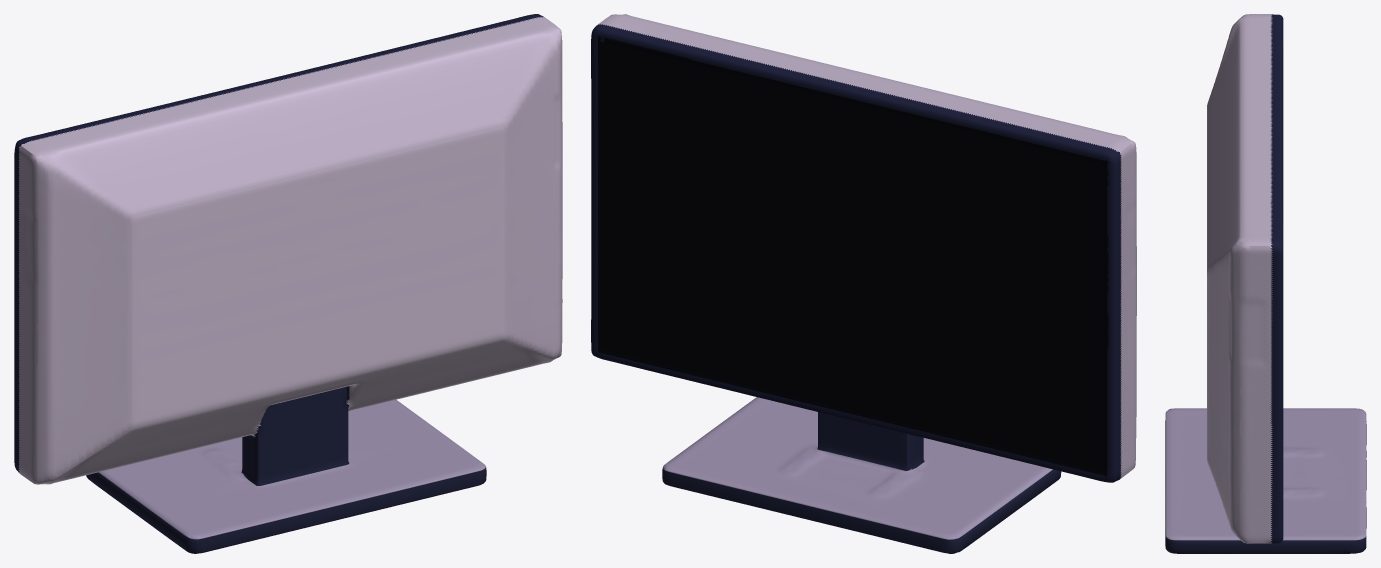
The model's file is white_mesh.glb.
3 renders of one model, left to right at view 1: azimuth 30°, elevation 25°; view 2: azimuth 150°, elevation 25°; view 3: azimuth 270°, elevation 25°, orthographic. The views are drawn at different scales.
Visible parts, largest first — view 1: tmp6k7qvauq.ply; view 2: tmp6k7qvauq.ply; view 3: tmp6k7qvauq.ply.
Part boxes in pixels (box(x1,y1,x2,y2)): tmp6k7qvauq.ply: box(14, 14, 562, 553); tmp6k7qvauq.ply: box(591, 14, 1136, 553); tmp6k7qvauq.ply: box(1165, 14, 1366, 553).
Bounding box in the file's own units: 1.96 × 1.43 × 0.7148.
